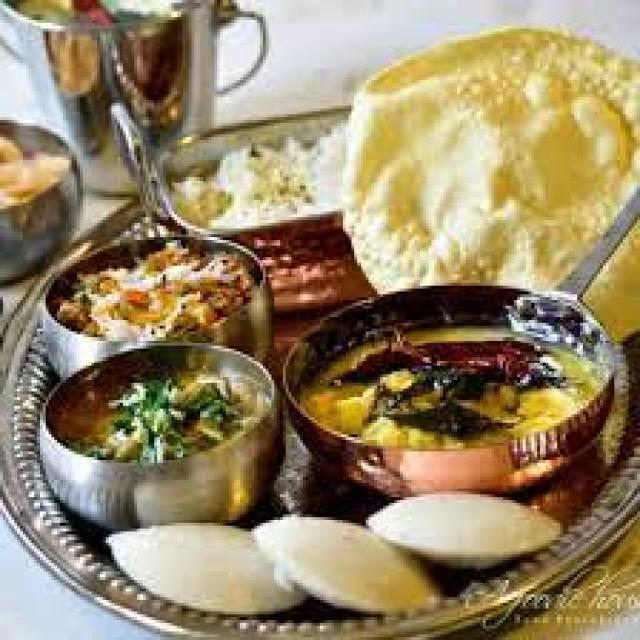curd: (366, 478, 562, 574)
rice: (349, 63, 630, 289), (162, 118, 344, 242)
veg-fry: (310, 300, 614, 488), (57, 221, 255, 361)
